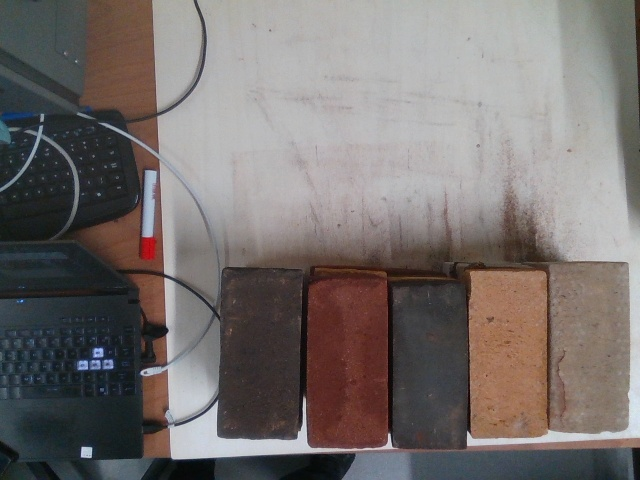brick: (218, 271, 300, 438), (307, 285, 385, 446), (390, 286, 468, 447), (469, 273, 547, 434), (550, 268, 628, 429)
